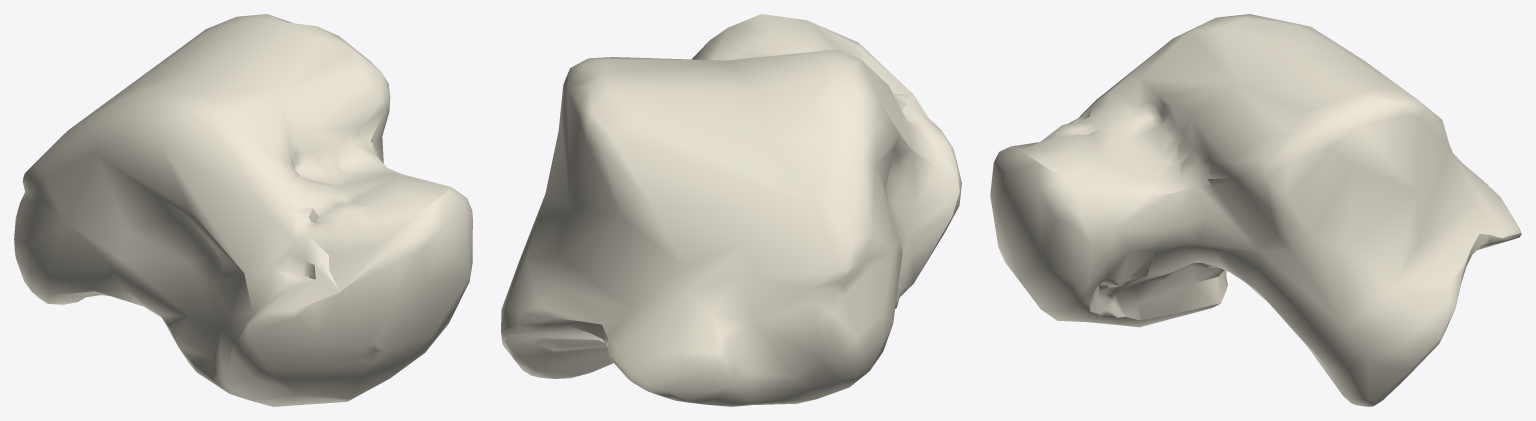
Rendered from fma24483_fj3280.glb.
3 renders of one model, left to right at view 1: azimuth 30°, elevation 25°; view 2: azimuth 150°, elevation 25°; view 3: azimuth 270°, elevation 25°, orthographic. The views are drawn at different scales.
Visible parts, largest first — view 1: FMA24483_FJ3280; view 2: FMA24483_FJ3280; view 3: FMA24483_FJ3280.
Part boxes in pixels (bbox=[...]): FMA24483_FJ3280: bbox=[14, 14, 472, 406]; FMA24483_FJ3280: bbox=[501, 14, 961, 406]; FMA24483_FJ3280: bbox=[990, 14, 1521, 406].
Size of the model in its own units: 0.0405 by 0.0344 by 0.0569.
